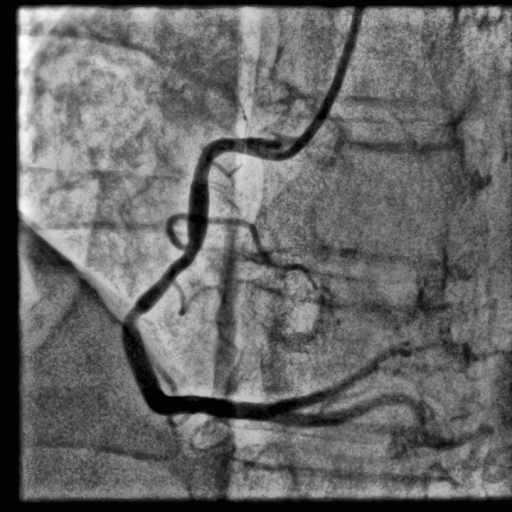pborca: (273, 349, 399, 412)
pda: (272, 393, 426, 426)
rca: (122, 138, 288, 422)
